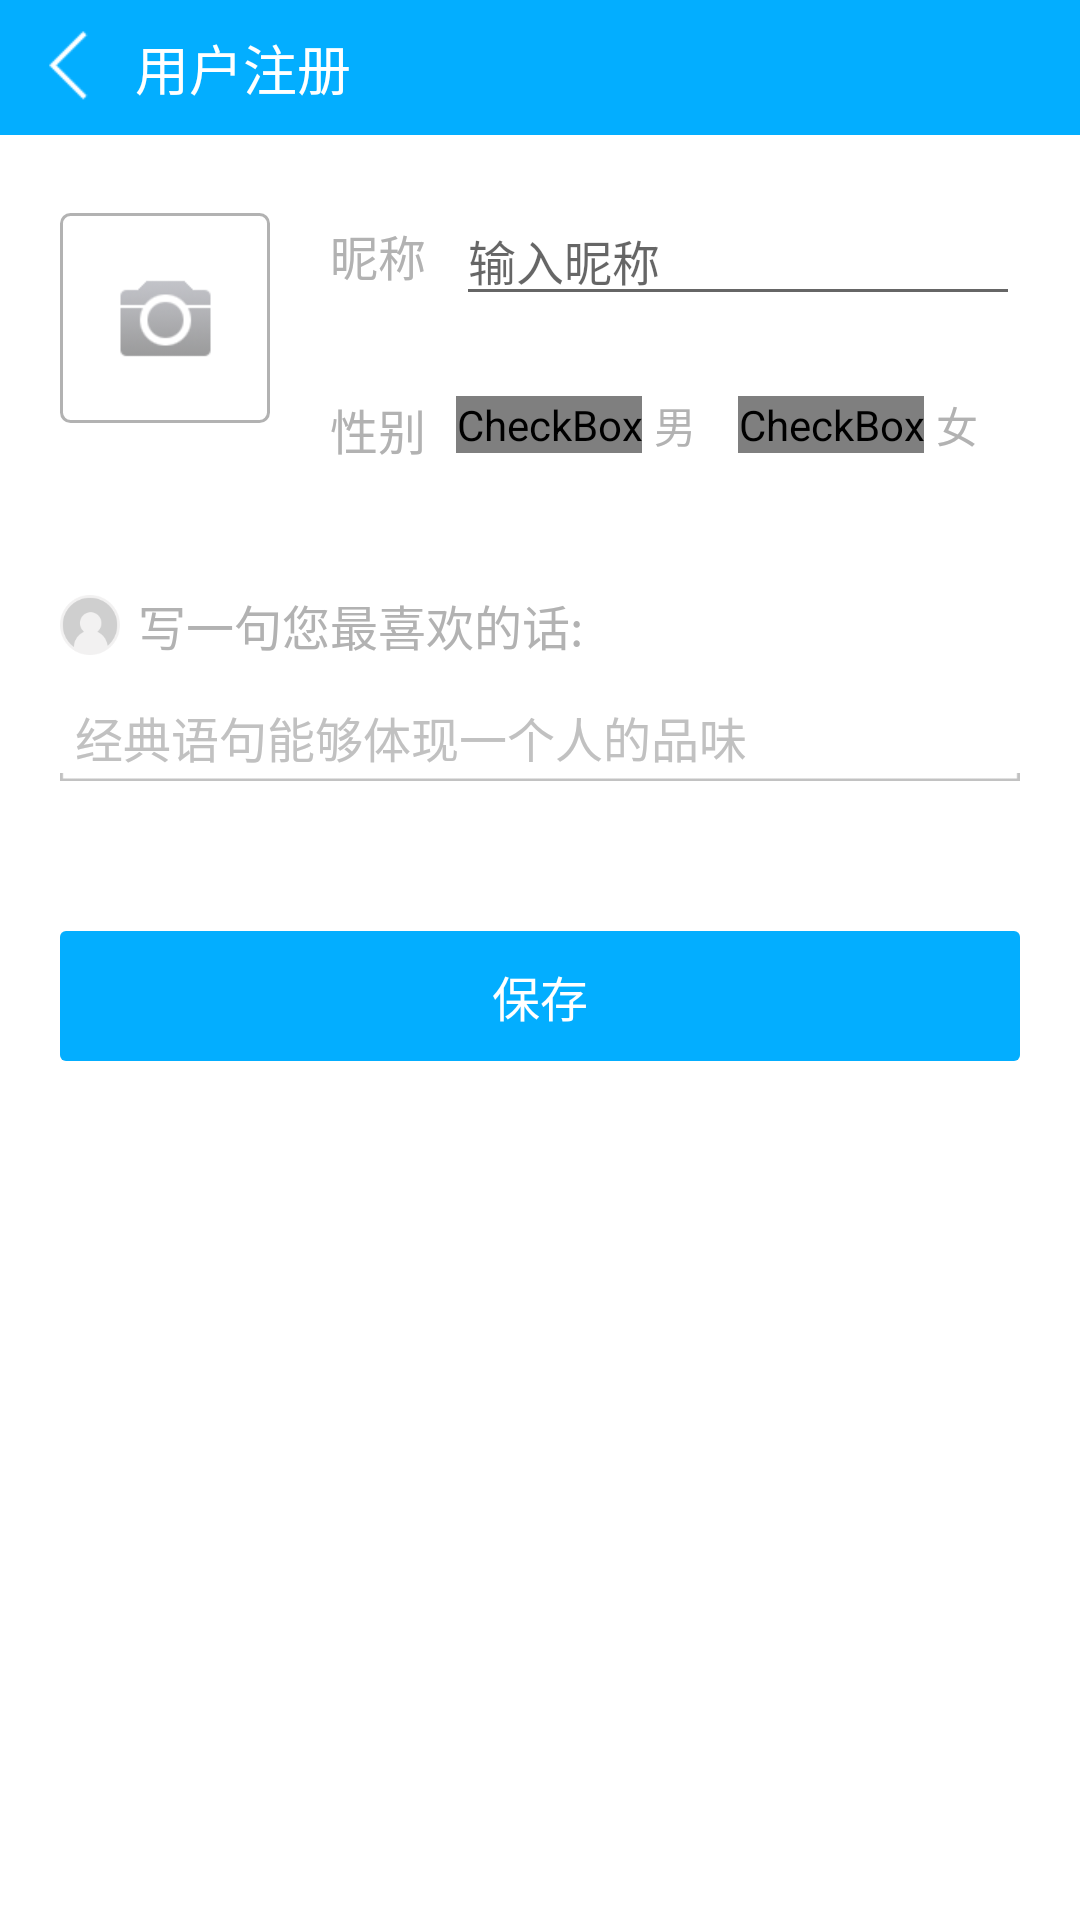

Where icons sit on this 1080x1920 app screen, as (x1, y1, x2, y2):
back: (49, 31, 88, 100)
